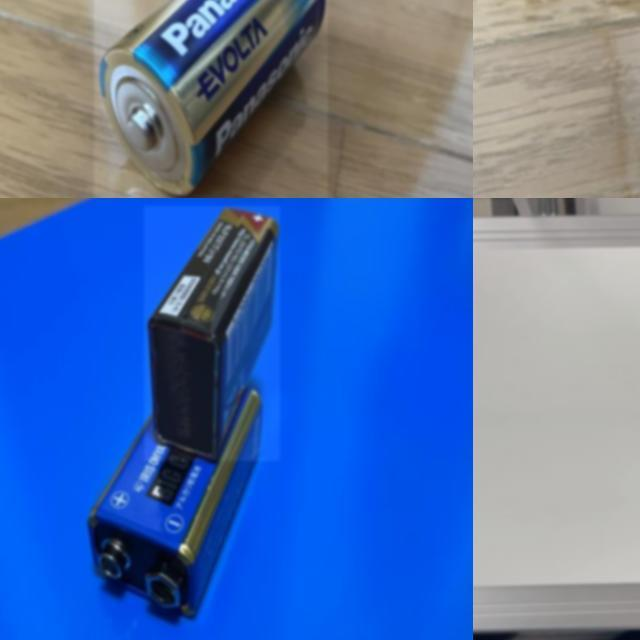9V: (86, 388, 263, 624), (145, 206, 281, 461)
